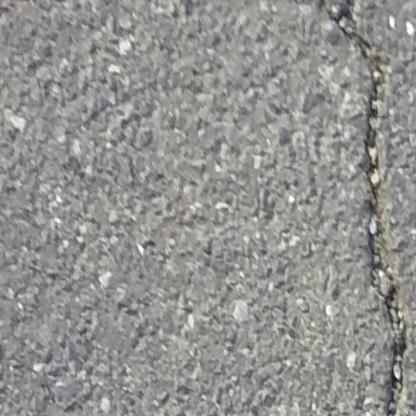Cracks: (312, 0, 412, 416)
